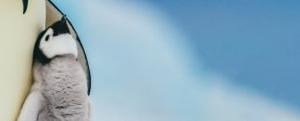Emperor Penguin: (0, 0, 96, 119)
